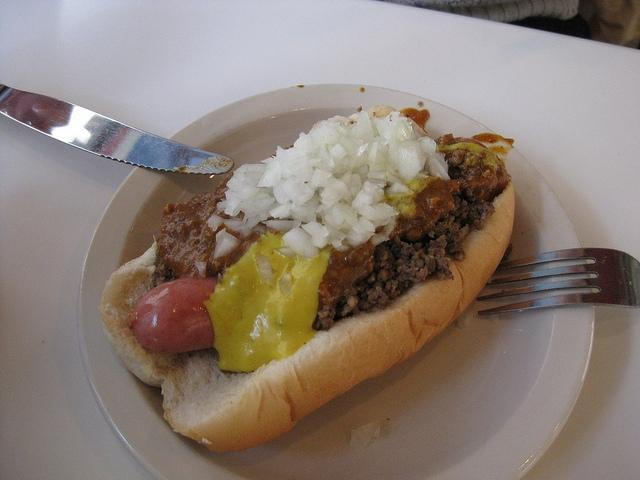onion: (282, 227, 321, 259), (398, 140, 422, 185), (320, 176, 348, 208), (214, 227, 241, 259), (358, 202, 400, 221), (257, 156, 281, 187), (353, 110, 374, 144), (345, 144, 369, 172), (283, 174, 306, 201), (324, 202, 346, 230), (260, 218, 302, 232), (428, 156, 450, 180), (301, 222, 329, 240), (315, 148, 336, 172), (406, 118, 431, 138), (393, 120, 412, 145), (273, 178, 290, 205), (224, 190, 241, 216), (310, 168, 332, 188), (324, 224, 346, 244), (268, 200, 292, 218), (372, 117, 390, 141), (330, 144, 350, 163), (340, 134, 360, 153), (387, 182, 414, 196), (359, 174, 386, 188), (418, 136, 437, 155), (388, 136, 400, 166), (331, 156, 350, 174), (290, 160, 308, 179), (206, 214, 224, 232), (227, 171, 248, 186), (347, 227, 362, 248), (223, 218, 242, 234), (240, 184, 260, 198), (368, 160, 387, 174), (277, 147, 297, 159), (320, 124, 340, 136), (258, 197, 276, 210), (348, 174, 362, 190), (196, 259, 207, 279), (244, 210, 264, 221), (245, 169, 265, 180), (352, 220, 367, 234), (246, 214, 260, 229), (339, 124, 354, 138), (294, 204, 316, 213), (294, 138, 307, 152), (369, 190, 382, 204), (312, 129, 325, 143), (280, 164, 292, 178), (322, 142, 336, 153), (279, 209, 293, 219), (378, 142, 388, 156), (412, 172, 428, 180), (308, 158, 322, 167), (338, 226, 350, 235), (342, 116, 354, 125), (304, 142, 311, 157), (319, 210, 326, 224), (413, 130, 422, 138), (389, 110, 400, 116), (350, 186, 360, 190), (346, 202, 352, 207)
